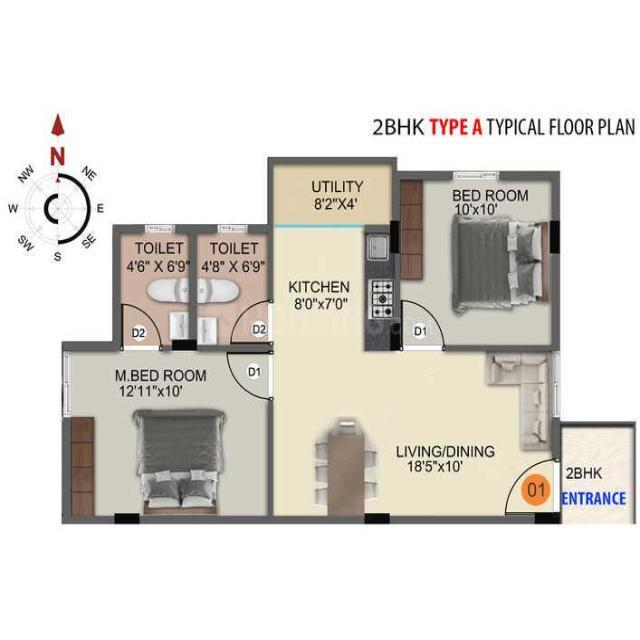Bedroom: (392, 170, 561, 352)
Bedroom with Toilet: (62, 222, 271, 520)
Dining: (312, 415, 380, 519)
Kitchen: (268, 225, 400, 352)
Living: (397, 345, 563, 522)
Toilet: (109, 223, 194, 351), (192, 226, 271, 354)
Utility: (269, 155, 400, 228)
